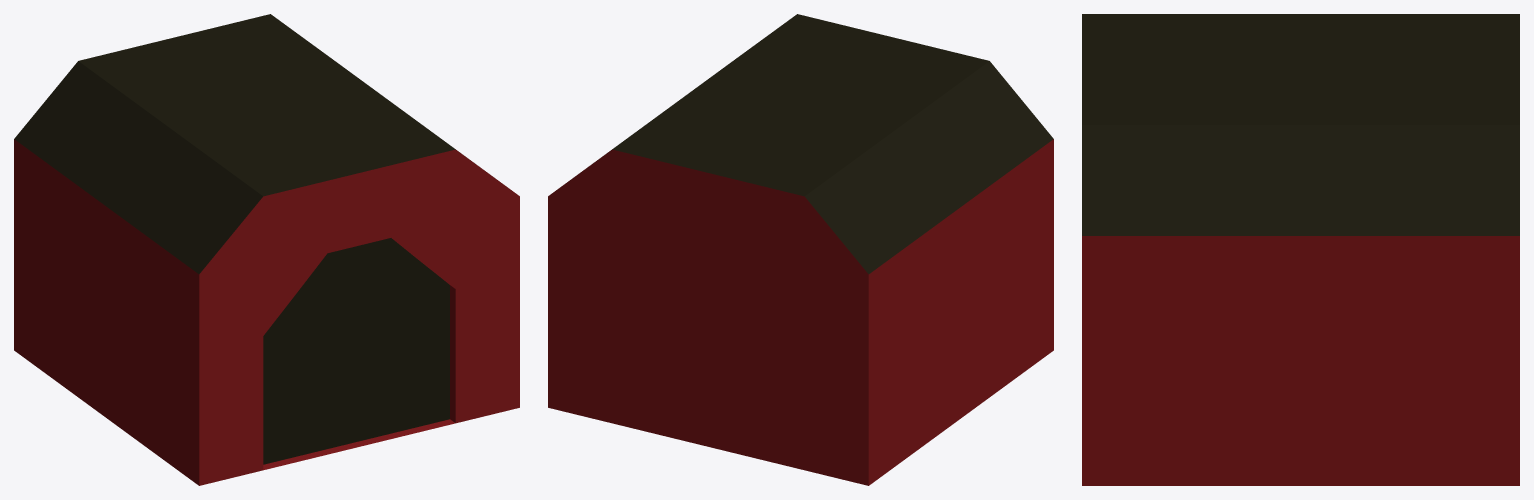
File: Farm.fbx
3 renders of one model, left to right at view 1: azimuth 30°, elevation 25°; view 2: azimuth 150°, elevation 25°; view 3: azimuth 270°, elevation 25°, orthographic. The views are drawn at different scales.
Parts seen in each view (by area): view 1: Farm; view 2: Farm; view 3: Farm.
Boxes of the visible parts, bbox=[...] form: Farm: bbox=[14, 14, 519, 485]; Farm: bbox=[548, 14, 1053, 485]; Farm: bbox=[1082, 14, 1519, 485].
Bounding box in the file's own units: 200 × 163 × 200.
